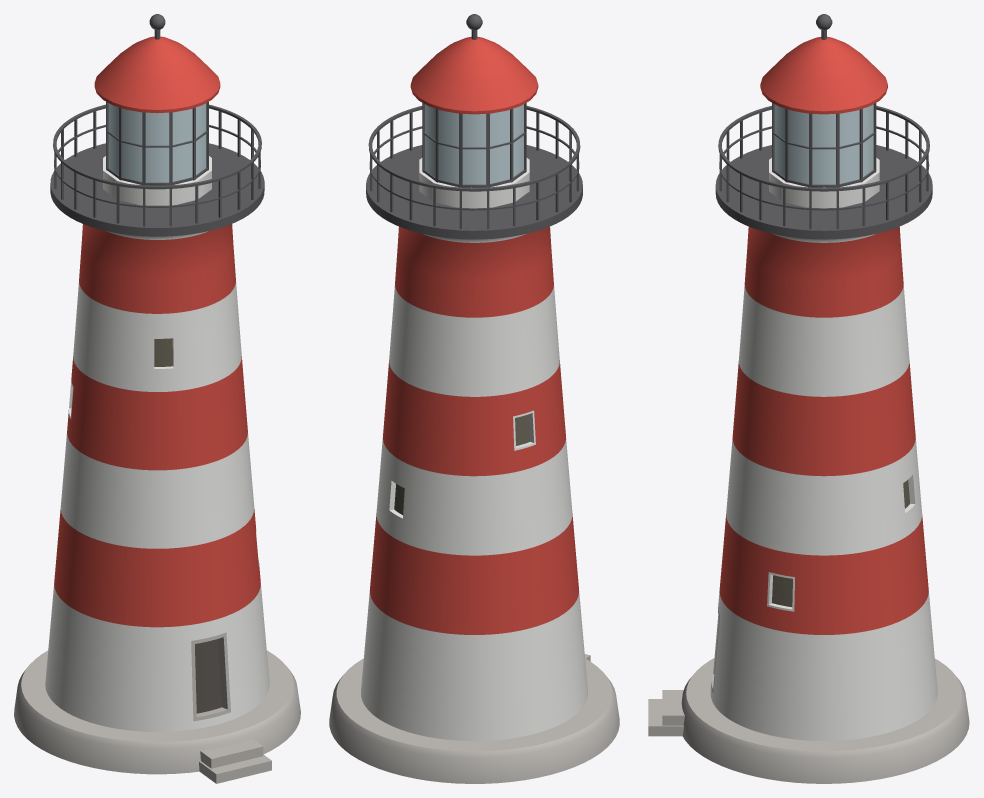
The model's file is SM_Lighthouse.glb.
3 renders of one model, left to right at view 1: azimuth 30°, elevation 25°; view 2: azimuth 150°, elevation 25°; view 3: azimuth 270°, elevation 25°, orthographic.
Visible parts, largest first — view 1: SM_Lighthouse; view 2: SM_Lighthouse; view 3: SM_Lighthouse.
Boxes of the visible parts, left/top/right/bottom form: SM_Lighthouse: left=14, top=14, right=300, bottom=783; SM_Lighthouse: left=329, top=14, right=619, bottom=783; SM_Lighthouse: left=648, top=14, right=969, bottom=783.
Bounding box in the file's own units: 6.7 × 18 × 7.4.
